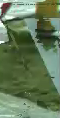Give way: (1, 2, 59, 108)
